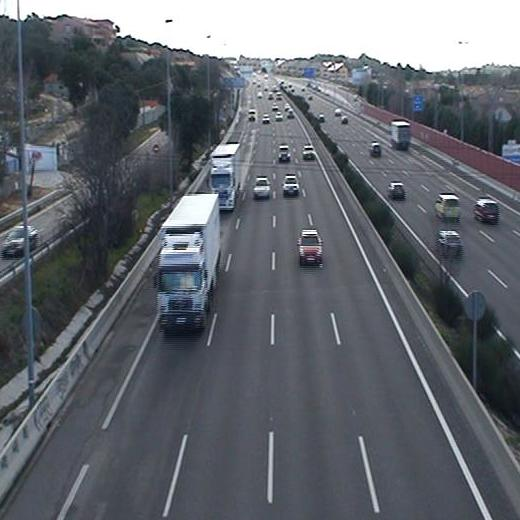car: (295, 229, 325, 265), (251, 174, 271, 199), (281, 174, 300, 197), (276, 144, 292, 164), (300, 144, 317, 160)
truck: (153, 191, 224, 337)
